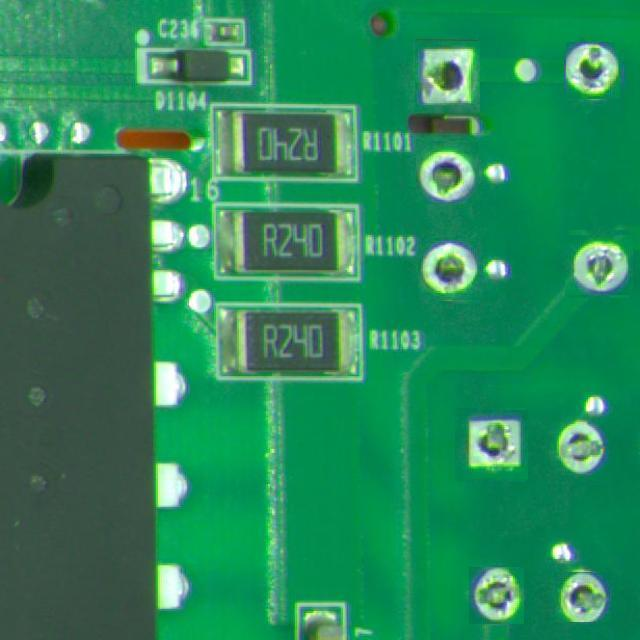lack_of_part: (456, 409, 527, 481), (414, 40, 480, 114), (567, 232, 632, 297), (541, 412, 606, 474), (416, 141, 479, 204), (419, 240, 482, 302), (468, 566, 524, 624), (565, 43, 620, 99), (555, 572, 611, 622)
